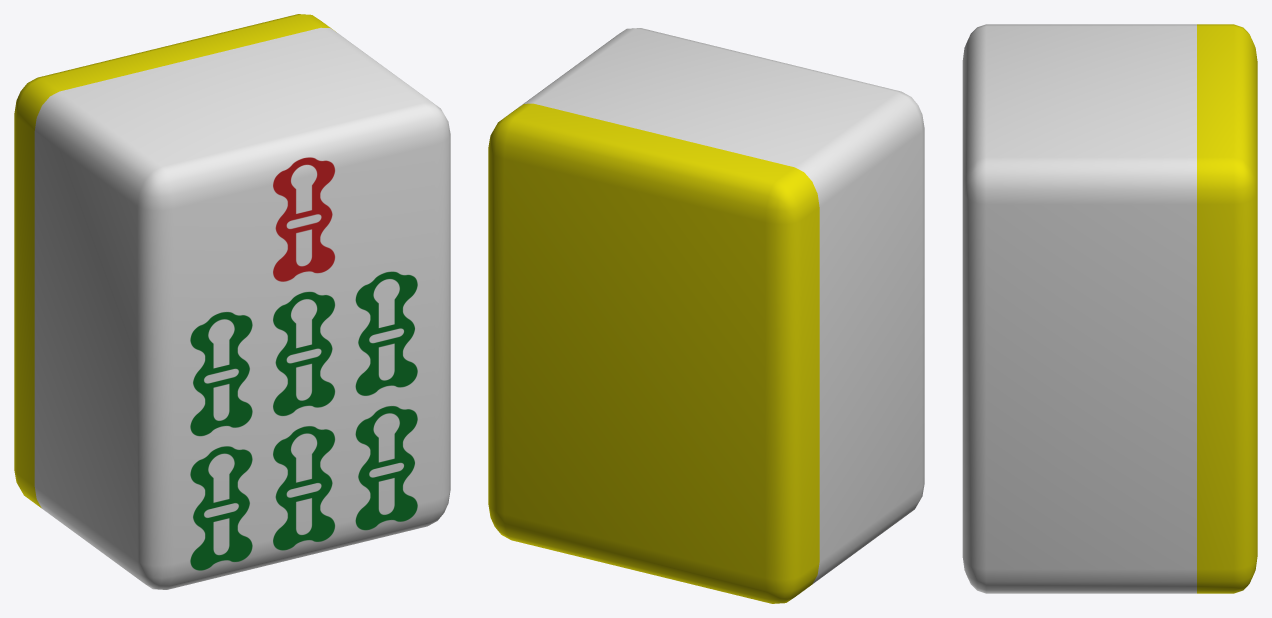
Rendered from sozu7.glb.
The picture shows the model from 3 angles, left to right: view 1: azimuth 30°, elevation 25°; view 2: azimuth 150°, elevation 25°; view 3: azimuth 270°, elevation 25°; orthographic projection. The views are drawn at different scales.
Parts seen in each view (by area): view 1: Cube, Cube.001; view 2: Cube; view 3: Cube.
Boxes of the visible parts, x1,y1,x2,y2 form: Cube: [14, 14, 450, 589]; Cube.001: [190, 157, 417, 570]; Cube: [488, 28, 924, 603]; Cube: [962, 24, 1257, 593].
Bounding box in the file's own units: 2 × 2.6 × 1.6.
Materials: 3 (1 with a texture image).
